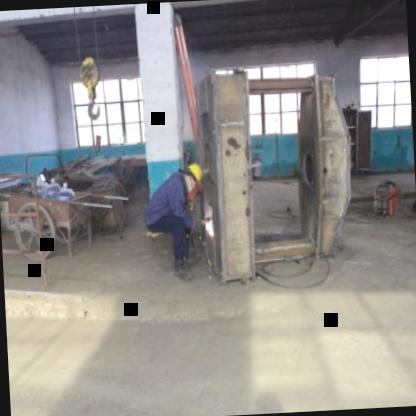helmet: (184, 159, 204, 196)
